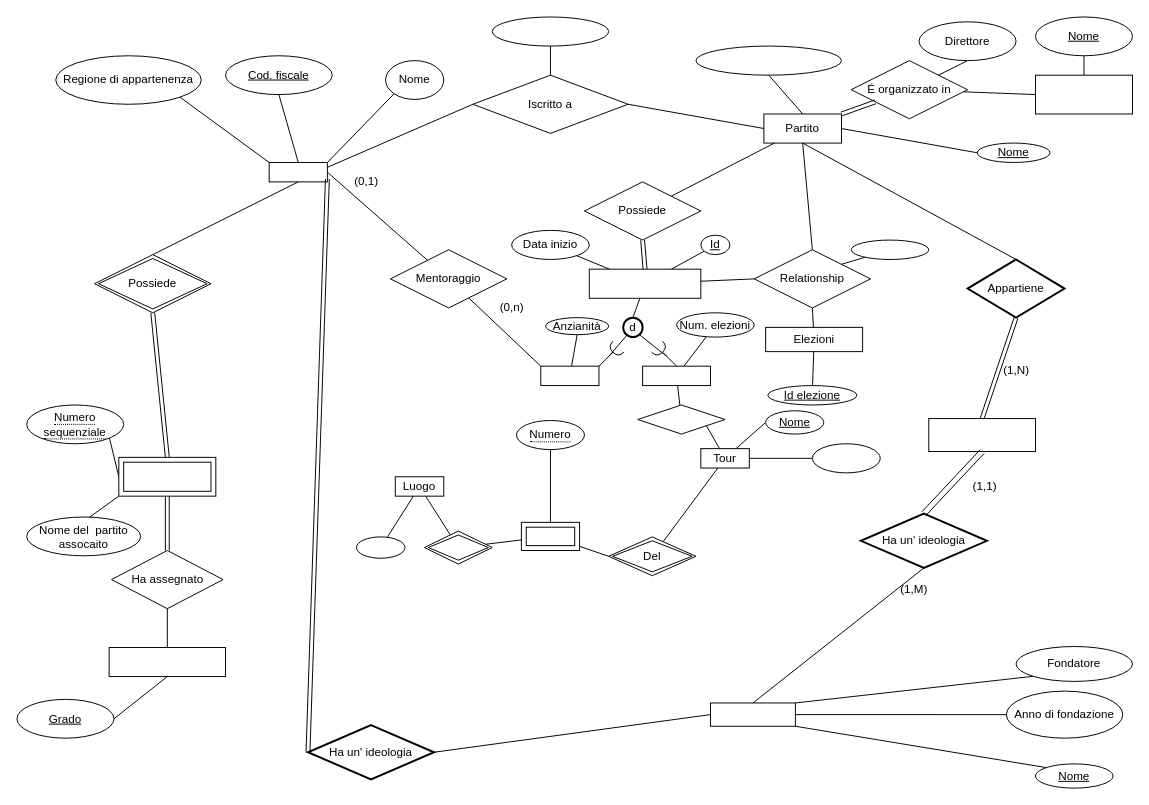
Some shapes in this 1149 by 805 pixel diagram are drawn without their labels. Each missing label, with the centre of its shape:
"Ala politica" goes at (x=1083, y=94).
"Ammount" goes at (x=889, y=249).
"Anno di creazione" goes at (x=768, y=60).
"Candidati" goes at (x=676, y=375).
"Cap" goes at (x=380, y=547).
"Card" goes at (x=167, y=476).
"Coalizione" goes at (x=981, y=435).
"Data di inizio" goes at (x=845, y=458).
"Data di iscrizione" goes at (x=550, y=31).
"Elettore" goes at (x=297, y=172).
"Ideologia" goes at (x=752, y=714).
"in" goes at (x=457, y=547).
"Livello" goes at (x=167, y=662).
"Membri di comitato" goes at (x=644, y=283).
"Partecipa" goes at (x=681, y=419).
"Tappe" goes at (x=550, y=535).
"Ufficiali" goes at (x=569, y=375).
